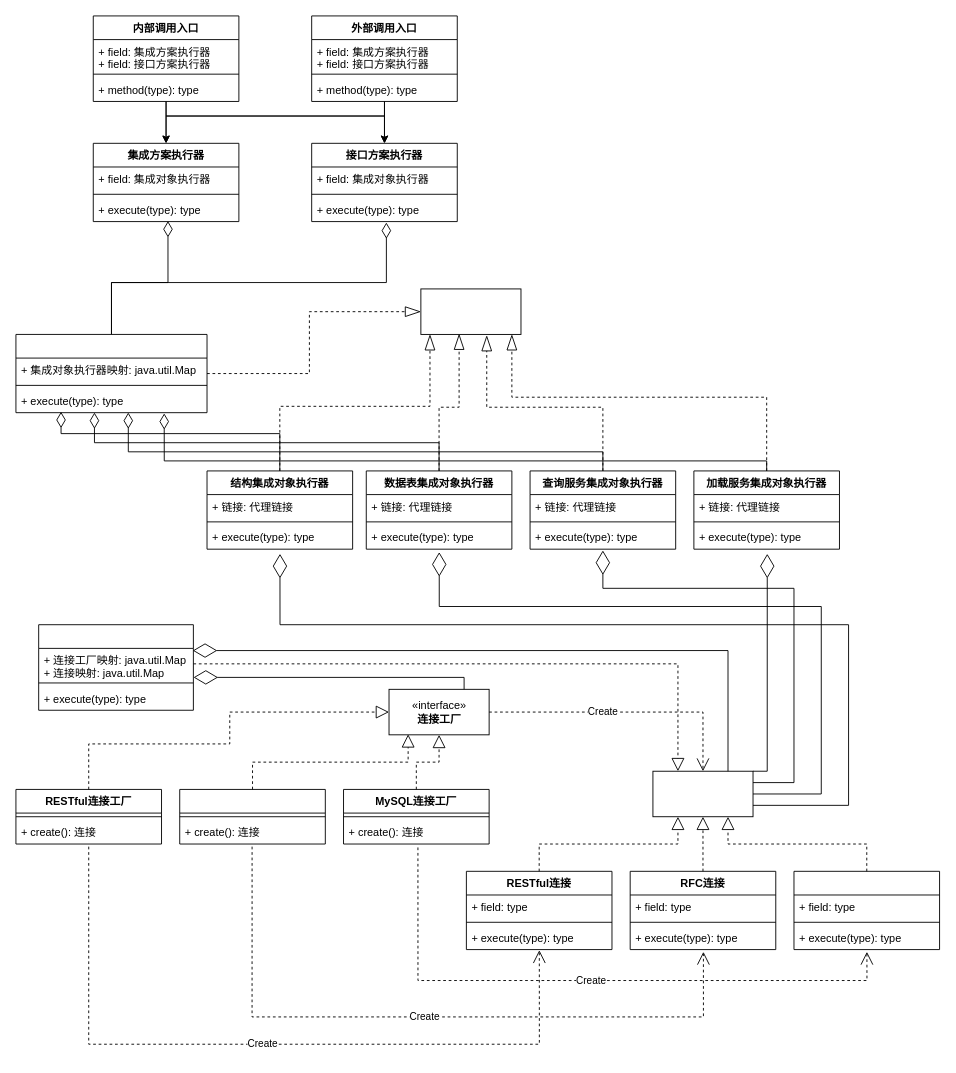
Image size: 956x1073. Some labels were removed from this diagram. Here are the shapes that lost their labels. From the top down, the box of each, then its label:
(420, 288, 521, 334): «interface» 集成对象执行器
(15, 334, 207, 413): 代理集成对象执行器
(38, 624, 193, 710): 代理连接
(652, 770, 753, 817): «interface» 连接
(179, 789, 325, 844): RFC连接工厂
(793, 870, 940, 950): MySQL连接
